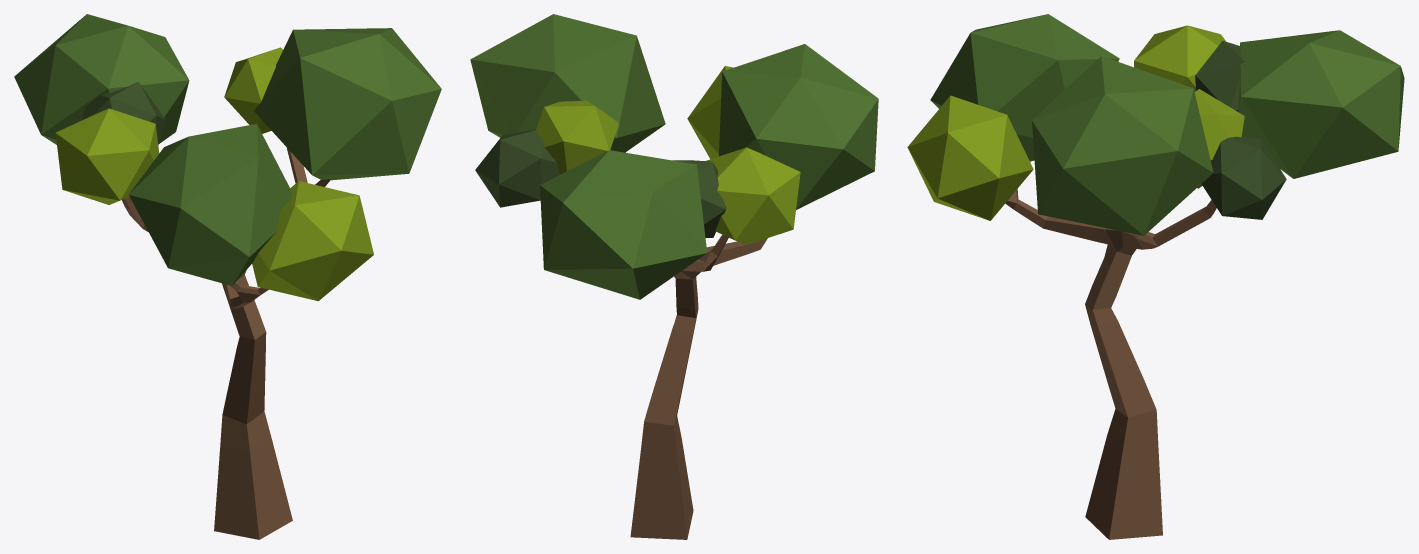
Rendered from low_poly_tree.fbx.
The picture shows the model from 3 angles, left to right: view 1: azimuth 30°, elevation 25°; view 2: azimuth 150°, elevation 25°; view 3: azimuth 270°, elevation 25°; orthographic projection. The views are drawn at different scales.
Parts seen in each view (by area): view 1: leaves, bark; view 2: leaves, bark; view 3: leaves, bark.
Part boxes in pixels (x1,y1,x2,y2): leaves: (14,14,441,301); bark: (122,147,330,539); leaves: (470,14,878,299); bark: (630,234,767,539); leaves: (907,14,1404,235); bark: (1005,189,1216,539).
Size of the model in its own units: 623 by 866 by 789.
